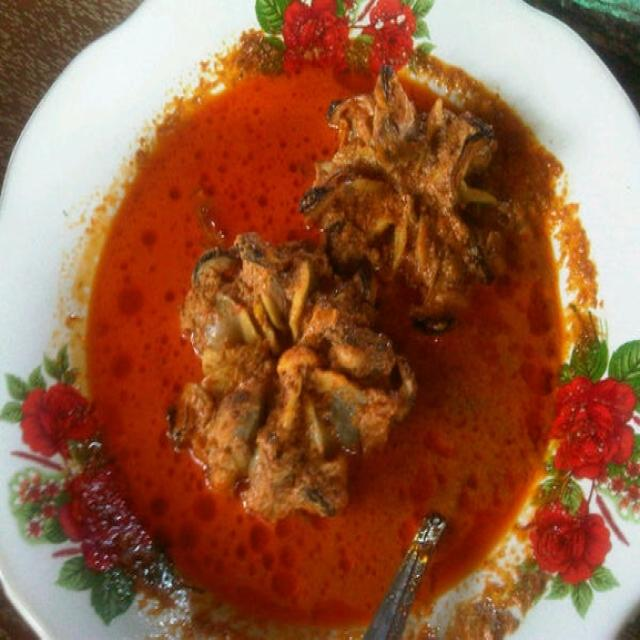熟制海鲜: (15, 13, 626, 610)
